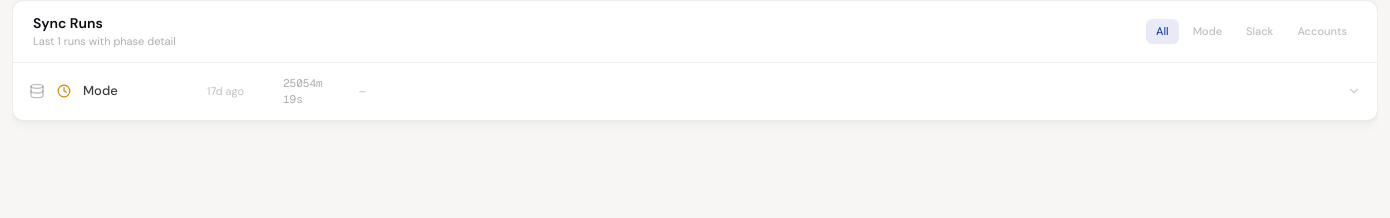
SyncRunLog › shows queued state metadata for queued runs
The width and height of the screenshot is (1390, 218).
Click the button "Mode 17d ago 25054m 19s —": (100, 91) x1=13 y1=62 x2=1377 y2=120
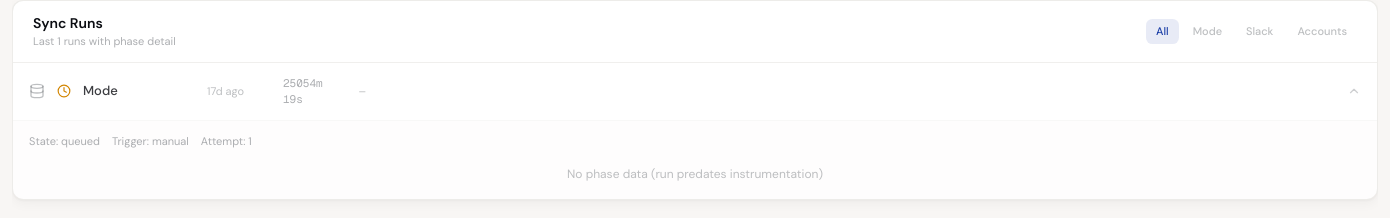
Check: the text "State: queued" is shown, box x1=29 y1=132 x2=100 y2=149
Check: the text "Trigger: manual" is shown, box x1=112 y1=132 x2=189 y2=149
